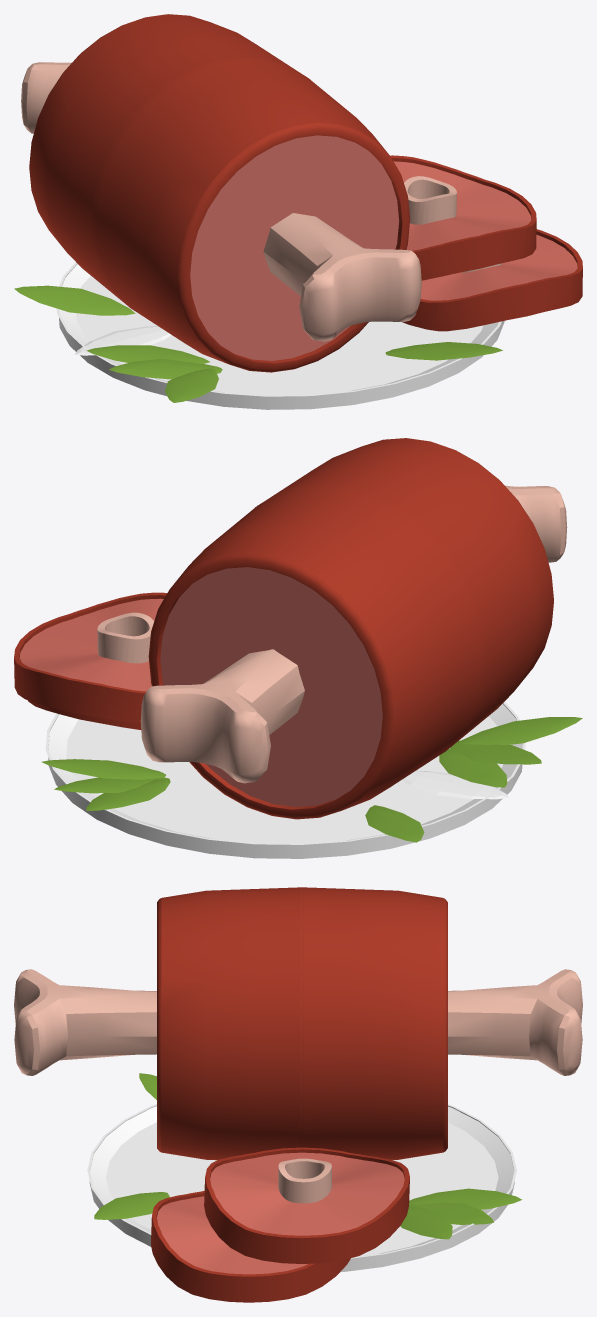
The model's file is corte_carne.glb.
3 views of the same model, one above another, from view 1: azimuth 30°, elevation 25°; view 2: azimuth 150°, elevation 25°; view 3: azimuth 270°, elevation 25° (orthographic). The views are drawn at different scales.
Parts seen in each view (by area): view 1: Cylinder, Cylinder.001, Cube.002, Cylinder.002, Cylinder.003, Plane.007, Plane.008, Plane.004, Plane.003, Plane, Plane.001; view 2: Cylinder, Cylinder.001, Cube.002, Cylinder.002, Plane.001, Plane, Plane.002, Plane.004, Plane.003, Plane.007, Plane.006, Plane.005 (+1 smaller); view 3: Cylinder, Cube.002, Cylinder.002, Cylinder.001, Cylinder.003, Plane.006, Plane.008, Plane.002, Plane.005.
Part boxes in pixels (bbox=[...]): Cylinder: bbox=[29, 14, 410, 372]; Cylinder.001: bbox=[56, 262, 504, 409]; Cube.002: bbox=[21, 62, 421, 341]; Cylinder.002: bbox=[390, 155, 536, 280]; Cylinder.003: bbox=[402, 229, 582, 331]; Plane.007: bbox=[14, 285, 135, 315]; Plane.008: bbox=[385, 342, 502, 360]; Plane.004: bbox=[86, 345, 209, 363]; Plane.003: bbox=[109, 359, 222, 379]; Plane: bbox=[74, 326, 171, 355]; Plane.001: bbox=[165, 368, 218, 402]; Cylinder: bbox=[148, 438, 553, 819]; Cylinder.001: bbox=[45, 701, 525, 858]; Cube.002: bbox=[140, 485, 567, 783]; Cylinder.002: bbox=[14, 592, 166, 723]; Plane.001: bbox=[458, 717, 582, 745]; Plane: bbox=[402, 770, 508, 799]; Plane.002: bbox=[41, 759, 165, 779]; Plane.004: bbox=[439, 749, 507, 787]; Plane.003: bbox=[449, 740, 541, 764]; Plane.007: bbox=[365, 805, 424, 842]; Plane.006: bbox=[86, 779, 170, 810]; Plane.005: bbox=[54, 777, 170, 793]; Cylinder: bbox=[157, 887, 447, 1160]; Cube.002: bbox=[14, 969, 582, 1075]; Cylinder.002: bbox=[204, 1147, 409, 1263]; Cylinder.001: bbox=[87, 1104, 516, 1272]; Cylinder.003: bbox=[151, 1191, 350, 1302]; Plane.006: bbox=[409, 1188, 521, 1209]; Plane.008: bbox=[94, 1192, 169, 1219]; Plane.002: bbox=[400, 1206, 452, 1239]; Plane.005: bbox=[409, 1202, 493, 1224].
Bounding box in the file's own units: 5 × 2.75 × 5.55.
